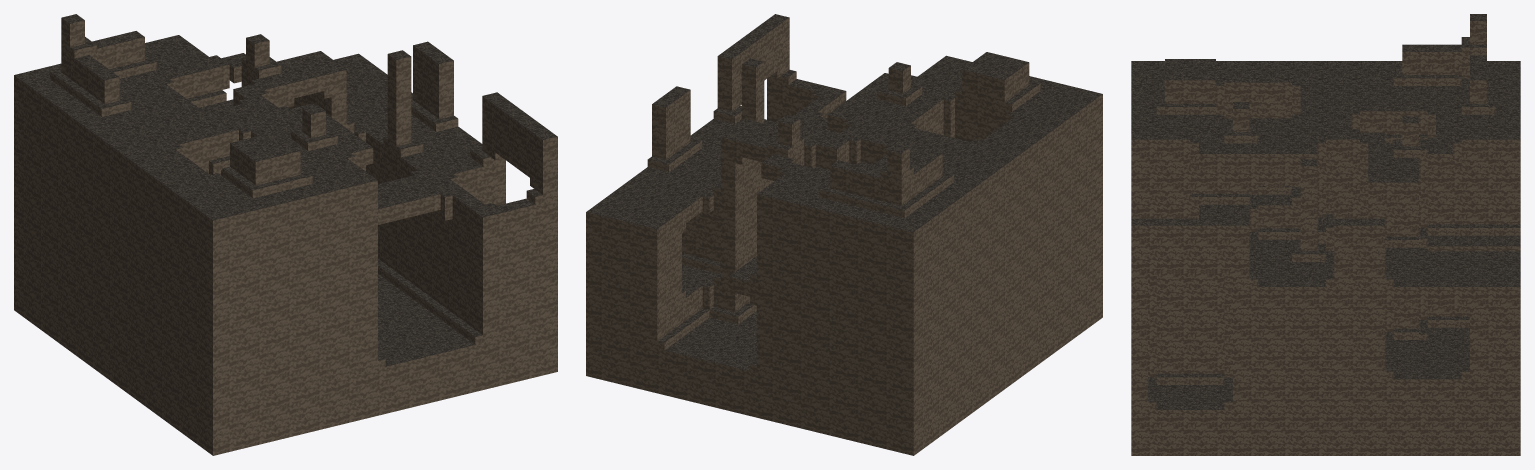
The model's file is profondeurs.glb.
The picture shows the model from 3 angles, left to right: view 1: azimuth 30°, elevation 25°; view 2: azimuth 150°, elevation 25°; view 3: azimuth 270°, elevation 25°; orthographic projection. The views are drawn at different scales.
Parts seen in each view (by area): view 1: edge_inner_b4h2_outdoor_345, edge_inner_b4h2_outdoor_338, slab_b2h2_outdoor_161, slab_b2h2_outdoor_310, slab_b2h2_outdoor_330, slab_b2h2_outdoor_377, slab_b2h2_outdoor_745, slab_b2h2_outdoor_916, slab_b2h2_outdoor_131, slab_b2h2_outdoor_141, slab_b2h2_outdoor_173, slab_b2h2_outdoor_209 (+182 smaller); view 2: edge_inner_b4h2_outdoor_337, edge_inner_b4h2_outdoor_254, edge_inner_b3h3_outdoor_407, edge_inner_b4h2_845, corner_inner_b4h3_outdoor_749, slab_b2h2_outdoor_513, slab_b2h2_outdoor_692, slab_b2h2_outdoor_842, slab_b2h2_outdoor_850, slab_b2h2_outdoor_857, slab_b2h2_outdoor_835, slab_b2h2_outdoor_837 (+157 smaller); view 3: edge_inner_b4h2_outdoor_256, edge_inner_b4h2_outdoor_419, edge_inner_b4h2_outdoor_552, edge_inner_b4h2_553, edge_inner_b4h2_571, edge_inner_b4h2_outdoor_839, ell_inner_b3h2_b_572, slab_b2h2_outdoor_1016, slab_b2h2_outdoor_1023, slab_b2h2_outdoor_576, slab_b2h2_outdoor_586, slab_b2h2_outdoor_967 (+164 smaller).
Boxes of the visible parts, bbox=[...] form: edge_inner_b4h2_outdoor_345: bbox=[263, 161, 305, 200]; edge_inner_b4h2_outdoor_338: bbox=[107, 46, 149, 86]; slab_b2h2_outdoor_161: bbox=[220, 282, 250, 320]; slab_b2h2_outdoor_310: bbox=[280, 299, 310, 337]; slab_b2h2_outdoor_330: bbox=[280, 236, 310, 274]; slab_b2h2_outdoor_377: bbox=[310, 323, 340, 361]; slab_b2h2_outdoor_745: bbox=[460, 349, 490, 387]; slab_b2h2_outdoor_916: bbox=[520, 240, 550, 278]; slab_b2h2_outdoor_131: bbox=[220, 407, 250, 445]; slab_b2h2_outdoor_141: bbox=[220, 345, 250, 383]; slab_b2h2_outdoor_173: bbox=[220, 219, 250, 257]; slab_b2h2_outdoor_209: bbox=[250, 369, 280, 407]; edge_inner_b4h2_outdoor_337: bbox=[825, 175, 865, 213]; edge_inner_b4h2_outdoor_254: bbox=[854, 182, 894, 220]; edge_inner_b3h3_outdoor_407: bbox=[935, 105, 969, 138]; edge_inner_b4h2_845: bbox=[682, 240, 715, 277]; corner_inner_b4h3_outdoor_749: bbox=[694, 292, 727, 326]; slab_b2h2_outdoor_513: bbox=[735, 375, 764, 411]; slab_b2h2_outdoor_692: bbox=[678, 361, 707, 397]; slab_b2h2_outdoor_842: bbox=[621, 288, 650, 324]; slab_b2h2_outdoor_850: bbox=[621, 258, 650, 294]; slab_b2h2_outdoor_857: bbox=[621, 228, 650, 264]; slab_b2h2_outdoor_835: bbox=[621, 347, 650, 383]; slab_b2h2_outdoor_837: bbox=[621, 318, 650, 354]; edge_inner_b4h2_outdoor_256: bbox=[1410, 59, 1444, 93]; edge_inner_b4h2_outdoor_419: bbox=[1173, 88, 1207, 121]; edge_inner_b4h2_outdoor_552: bbox=[1478, 209, 1512, 242]; edge_inner_b4h2_553: bbox=[1444, 209, 1478, 242]; edge_inner_b4h2_571: bbox=[1207, 178, 1241, 211]; edge_inner_b4h2_outdoor_839: bbox=[1173, 358, 1207, 391]; ell_inner_b3h2_b_572: bbox=[1173, 178, 1207, 212]; slab_b2h2_outdoor_1016: bbox=[1478, 294, 1512, 325]; slab_b2h2_outdoor_1023: bbox=[1241, 294, 1275, 325]; slab_b2h2_outdoor_576: bbox=[1478, 147, 1512, 178]; slab_b2h2_outdoor_586: bbox=[1139, 147, 1173, 178]; slab_b2h2_outdoor_967: bbox=[1478, 417, 1512, 448].
Bounding box in the file's own units: 11.5 × 9.5 × 11.5.
2 materials, 2 textured.
